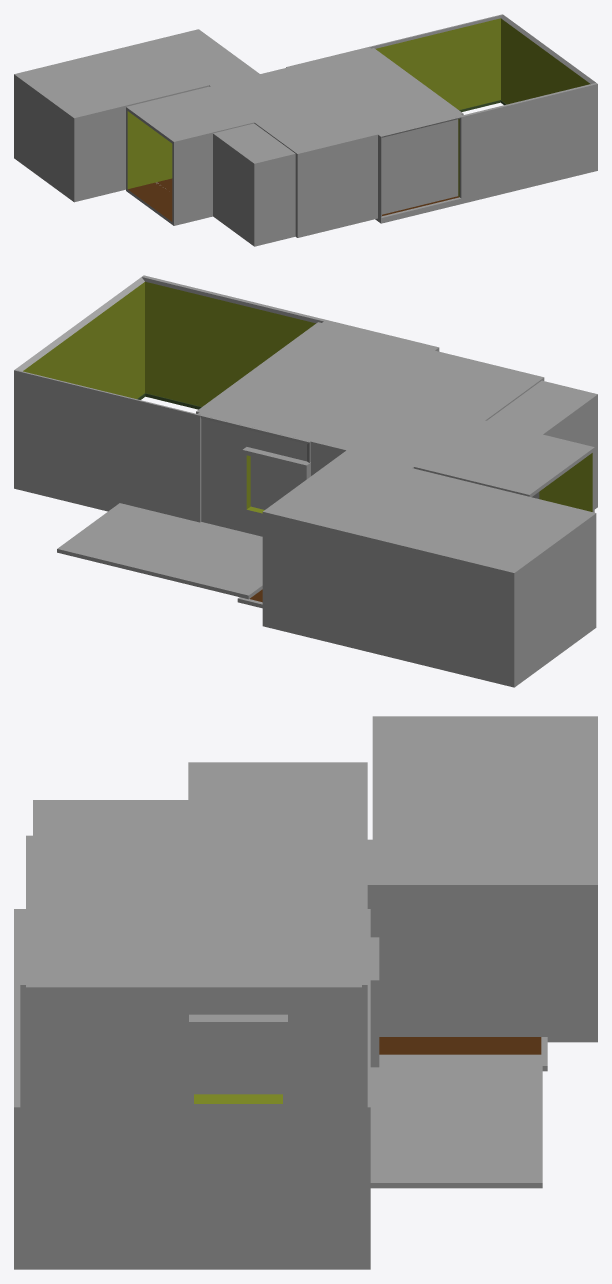
Rendered from Rooms.fbx.
3 views of the same model, one above another, from view 1: azimuth 30°, elevation 25°; view 2: azimuth 150°, elevation 25°; view 3: azimuth 270°, elevation 25° (orthographic). The views are drawn at different scales.
Parts seen in each view (by area): view 1: 6, 5, 2, 8, 7, 3, 4, 1; view 2: 5, 6, 7, stairs_ceiling, 2, 8, 3, 4, 1; view 3: 5, 6, 4, stairs_ceiling, 2, 7, 8, 1, 3, stairs_floor.
Part boxes in pixels (bbox=[...]): 6: bbox=[286, 14, 597, 223]; 5: bbox=[14, 29, 463, 202]; 2: bbox=[208, 48, 429, 237]; 8: bbox=[213, 50, 458, 237]; 7: bbox=[126, 68, 461, 225]; 3: bbox=[213, 123, 295, 246]; 4: bbox=[271, 49, 462, 151]; 1: bbox=[287, 47, 449, 218]; 5: bbox=[196, 322, 596, 687]; 6: bbox=[14, 275, 439, 522]; 7: bbox=[201, 321, 594, 536]; stairs_ceiling: bbox=[57, 503, 262, 599]; 2: bbox=[206, 354, 543, 466]; 8: bbox=[210, 330, 544, 465]; 3: bbox=[487, 380, 597, 509]; 4: bbox=[227, 322, 508, 399]; 1: bbox=[198, 322, 436, 441]; 5: bbox=[26, 716, 597, 1107]; 6: bbox=[14, 909, 370, 1269]; 4: bbox=[26, 838, 361, 1107]; stairs_ceiling: bbox=[370, 1054, 542, 1188]; 2: bbox=[26, 835, 361, 1094]; 7: bbox=[20, 762, 367, 1107]; 8: bbox=[26, 835, 361, 984]; 1: bbox=[20, 909, 367, 1107]; 3: bbox=[33, 800, 188, 835]; stairs_floor: bbox=[379, 1037, 547, 1071].
Bounding box in the file's own units: 1599 × 310 × 1009.
